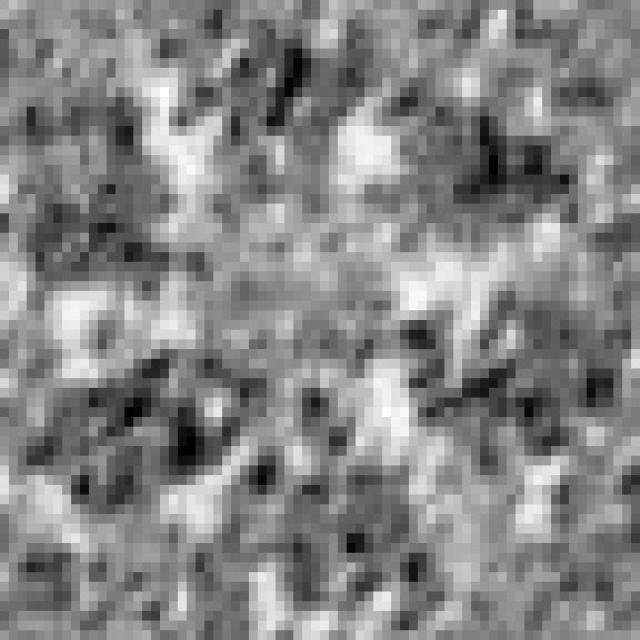inner: (183, 199, 405, 376)
lobe: (220, 391, 460, 636), (405, 283, 637, 490), (25, 350, 274, 511), (367, 79, 586, 256), (191, 25, 372, 208), (15, 94, 175, 293)
outer: (0, 0, 640, 640)
